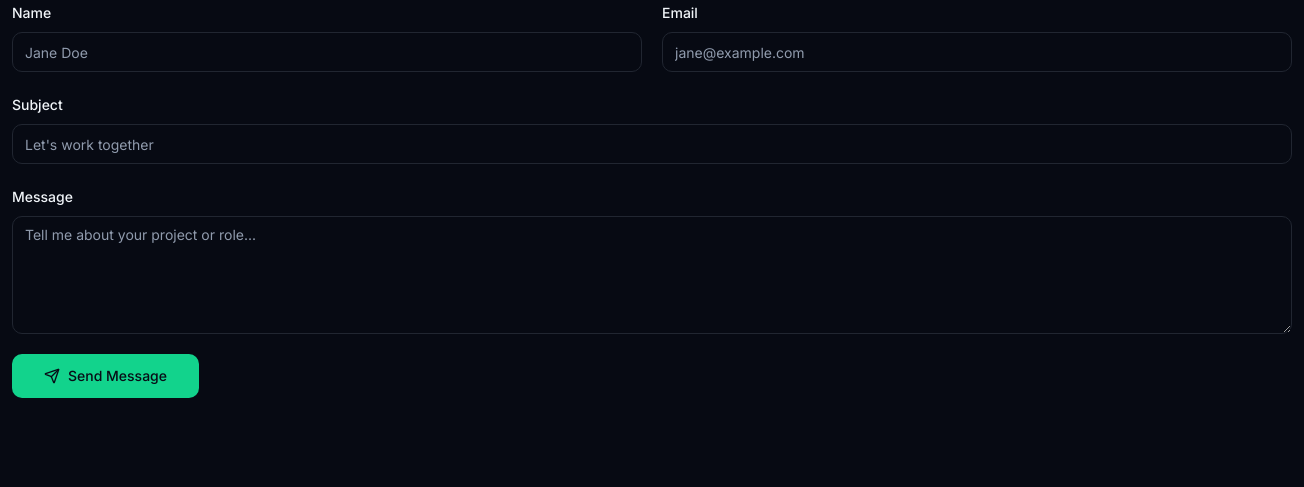
Test: ContactForm › shows validation errors when submitted empty
Click the button "Send Message": (106, 376) [12,354,199,398]
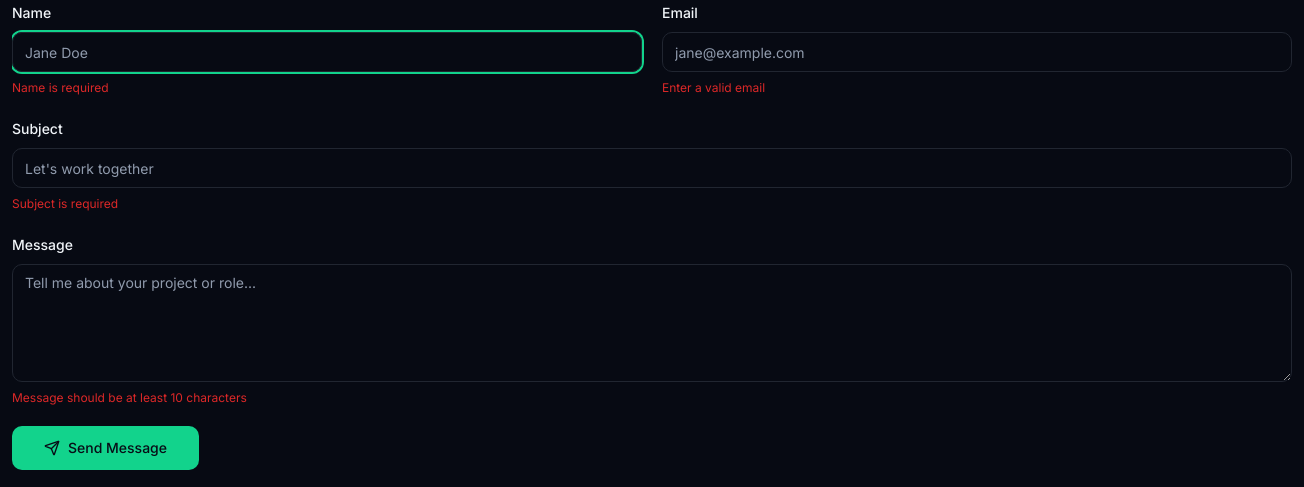
Now the text "Name is required" is shown, box [12,80,109,95]
Now the text "Enter a valid email" is shown, box [662,80,765,95]
Now the text "Subject is required" is shown, box [12,196,118,211]
